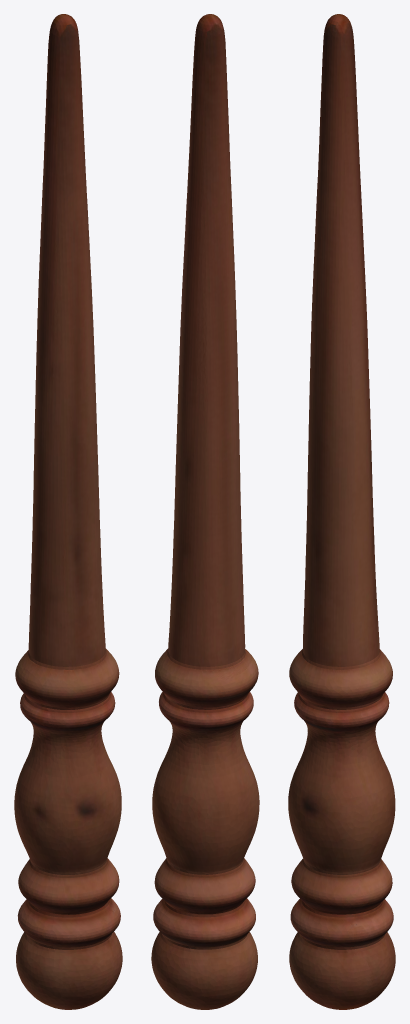
File: wand_starter.glb
3 renders of one model, left to right at view 1: azimuth 30°, elevation 25°; view 2: azimuth 210°, elevation 25°; view 3: azimuth 330°, elevation 25°, orthographic.
Parts seen in each view (by area): view 1: tmp41e2ixr9.ply; view 2: tmp41e2ixr9.ply; view 3: tmp41e2ixr9.ply.
Boxes of the visible parts, x1=… form: tmp41e2ixr9.ply: x1=14, y1=14, x2=122, y2=1009; tmp41e2ixr9.ply: x1=151, y1=14, x2=259, y2=1009; tmp41e2ixr9.ply: x1=288, y1=14, x2=395, y2=1009.
Bounding box in the file's own units: 0.0995 × 1 × 0.0979.
Materials: 1 (1 with a texture image).
